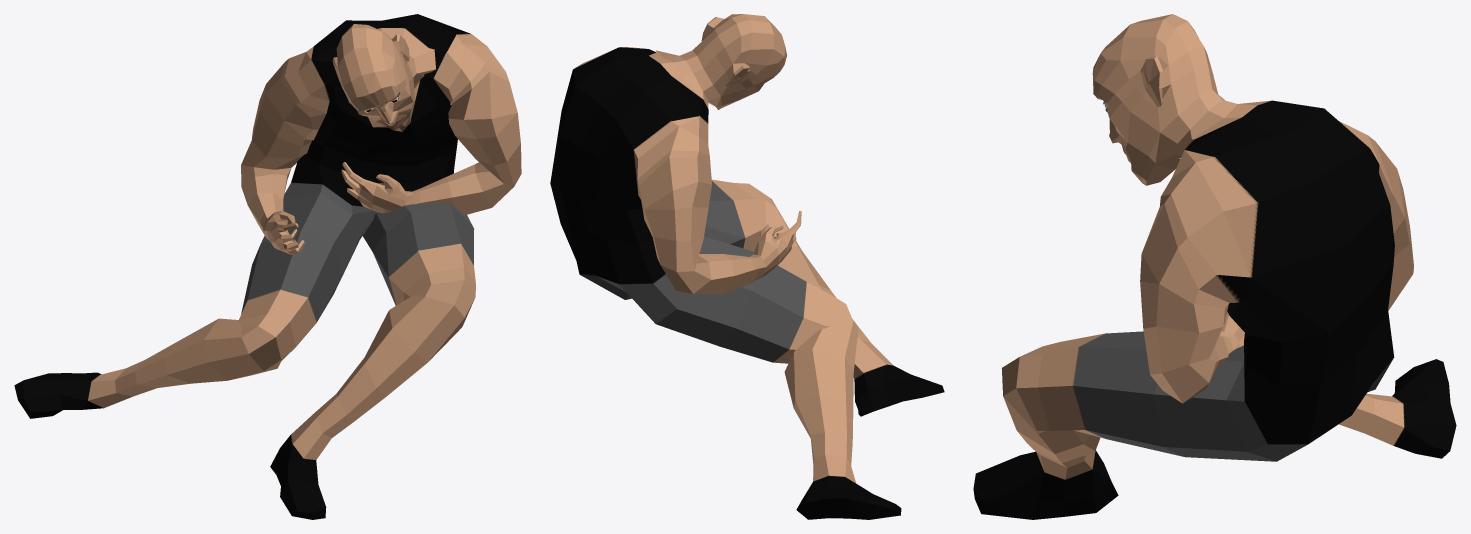
The model's file is PlayerDead(37).obj.
3 renders of one model, left to right at view 1: azimuth 30°, elevation 25°; view 2: azimuth 150°, elevation 25°; view 3: azimuth 270°, elevation 25°, orthographic. The views are drawn at different scales.
Visible parts, largest first — view 1: Plane002; view 2: Plane002; view 3: Plane002.
Boxes of the visible parts, x1,y1,x2,y2 form: Plane002: (14, 14, 521, 519); Plane002: (550, 14, 944, 519); Plane002: (973, 14, 1456, 519).
Size of the model in its own units: 1105 by 1062 by 821.
